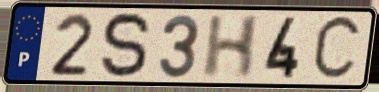2: (48, 11, 95, 79)
3: (157, 13, 200, 81)
4: (261, 15, 302, 81)
C: (309, 12, 365, 85)
H: (200, 14, 264, 80)
S: (99, 10, 153, 81)
